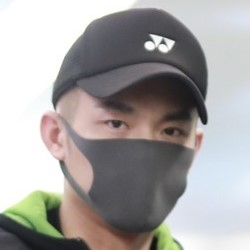mask: (56, 122, 194, 236)
